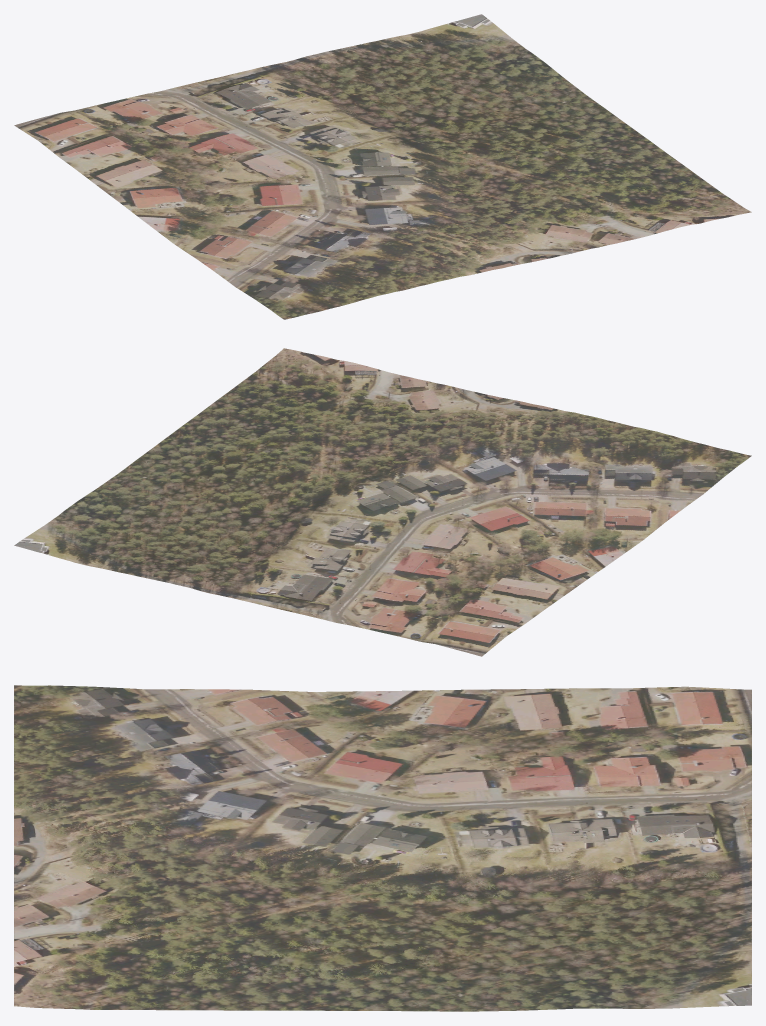
Rendered from CM_Terrain_24490868_6817336.fbx.
3 renders of one model, top to bottom at view 1: azimuth 30°, elevation 25°; view 2: azimuth 150°, elevation 25°; view 3: azimuth 270°, elevation 25°, orthographic. The views are drawn at different scales.
Parts seen in each view (by area): view 1: CM_Terrain_24490868_6817336_LOD0; view 2: CM_Terrain_24490868_6817336_LOD0; view 3: CM_Terrain_24490868_6817336_LOD0.
Boxes of the visible parts, x1,y1,x2,y2 form: CM_Terrain_24490868_6817336_LOD0: [14, 14, 751, 319]; CM_Terrain_24490868_6817336_LOD0: [14, 348, 751, 656]; CM_Terrain_24490868_6817336_LOD0: [14, 685, 751, 1011].
Size of what is drawn, in the model's own units: 205 by 6.11 by 205.
